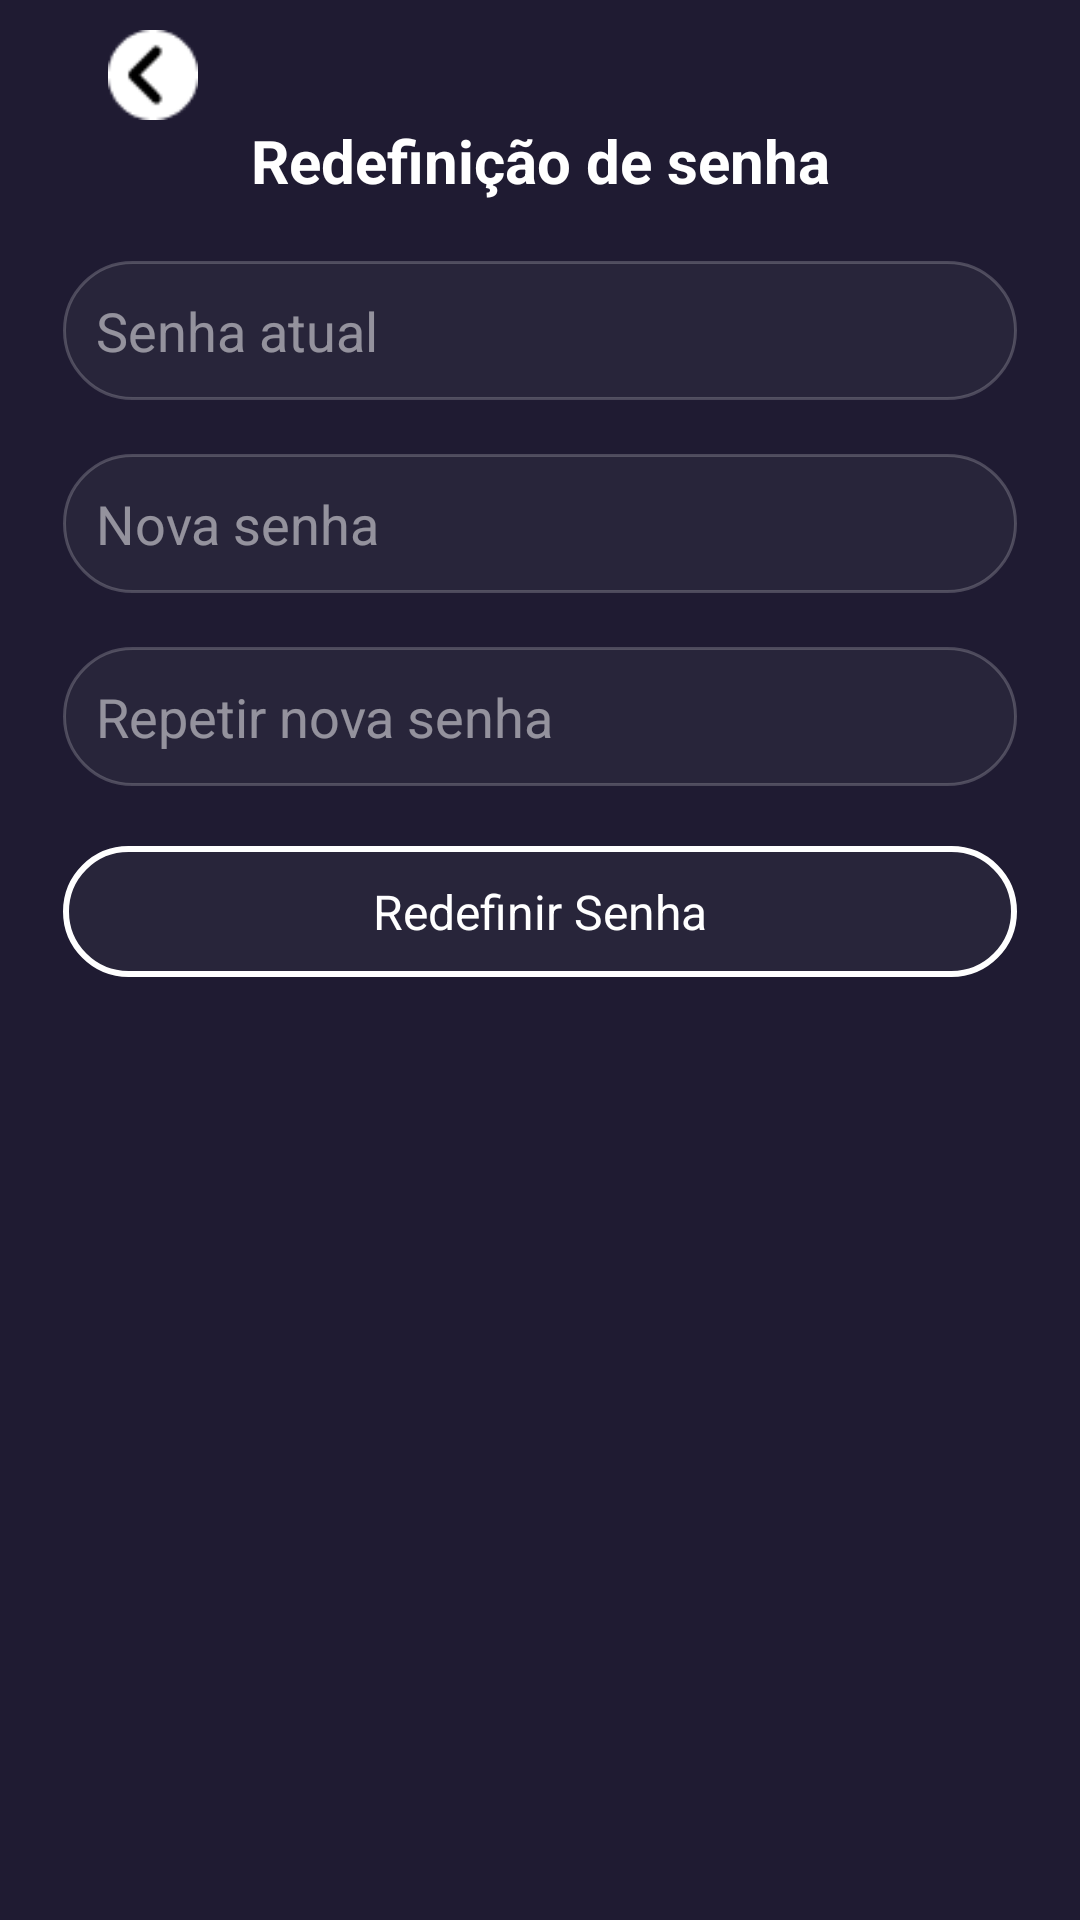

Screen size 1080x1920. Icon name, then its center in pixels as point (x, y):
back: point (153, 75)
